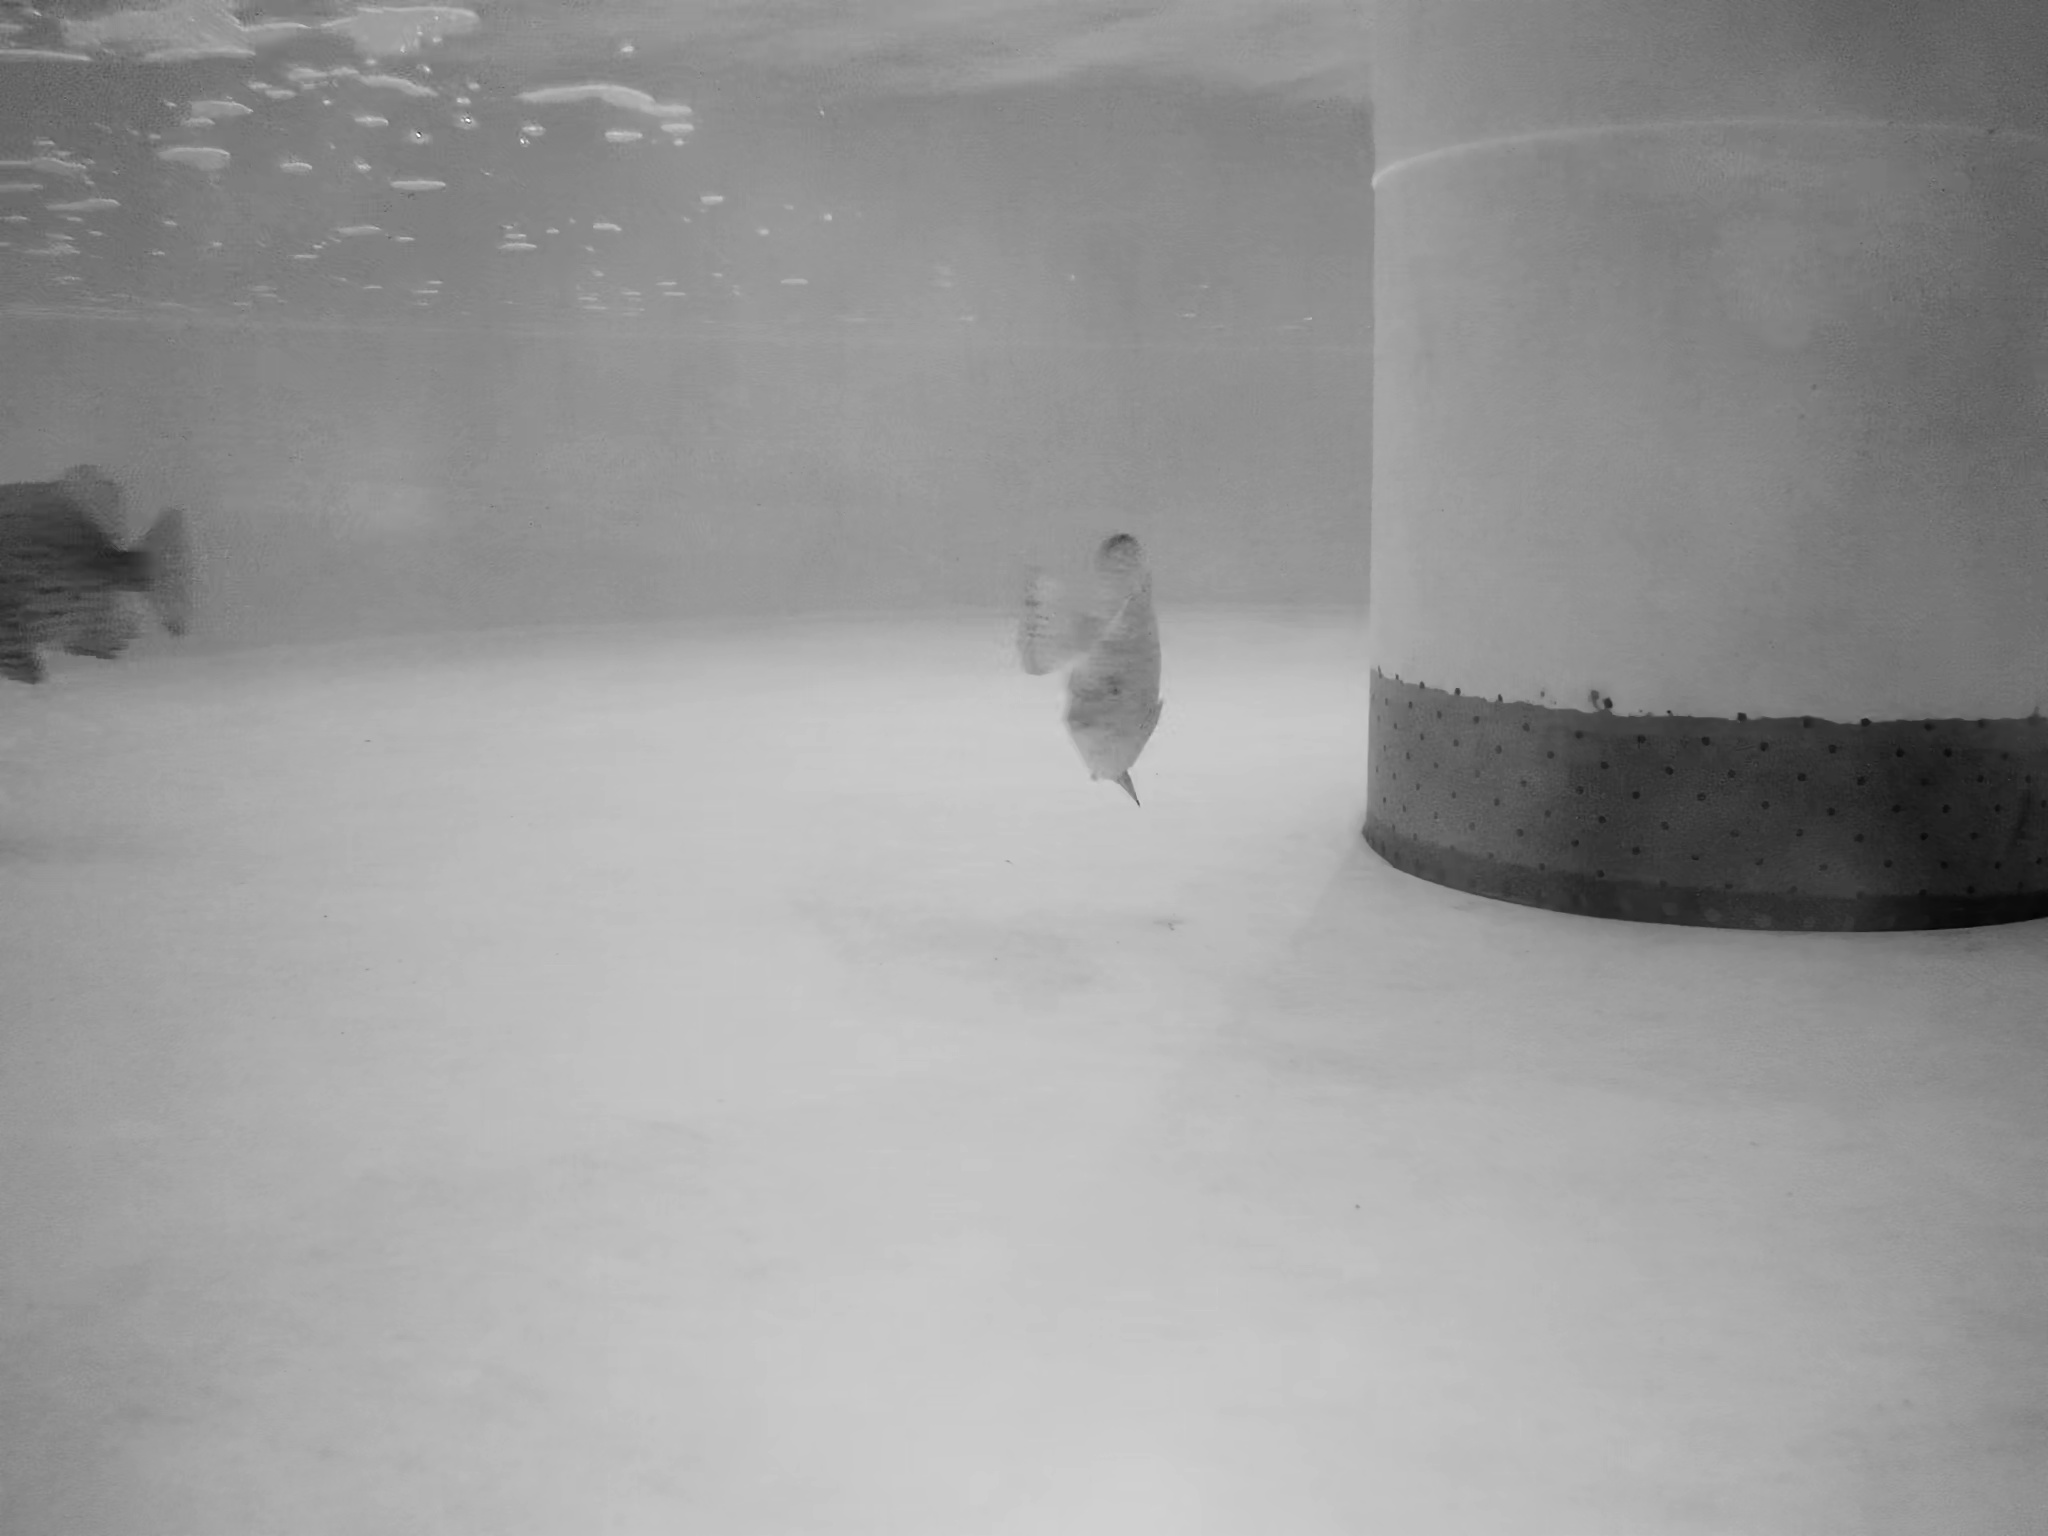fish: (2, 466, 198, 699), (1074, 566, 1174, 794), (1019, 529, 1142, 671)
